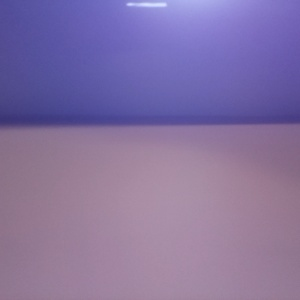alive_ball: (28, 55, 183, 212), (118, 34, 172, 88)
dead_ball: (1, 22, 39, 91), (160, 30, 207, 84)
